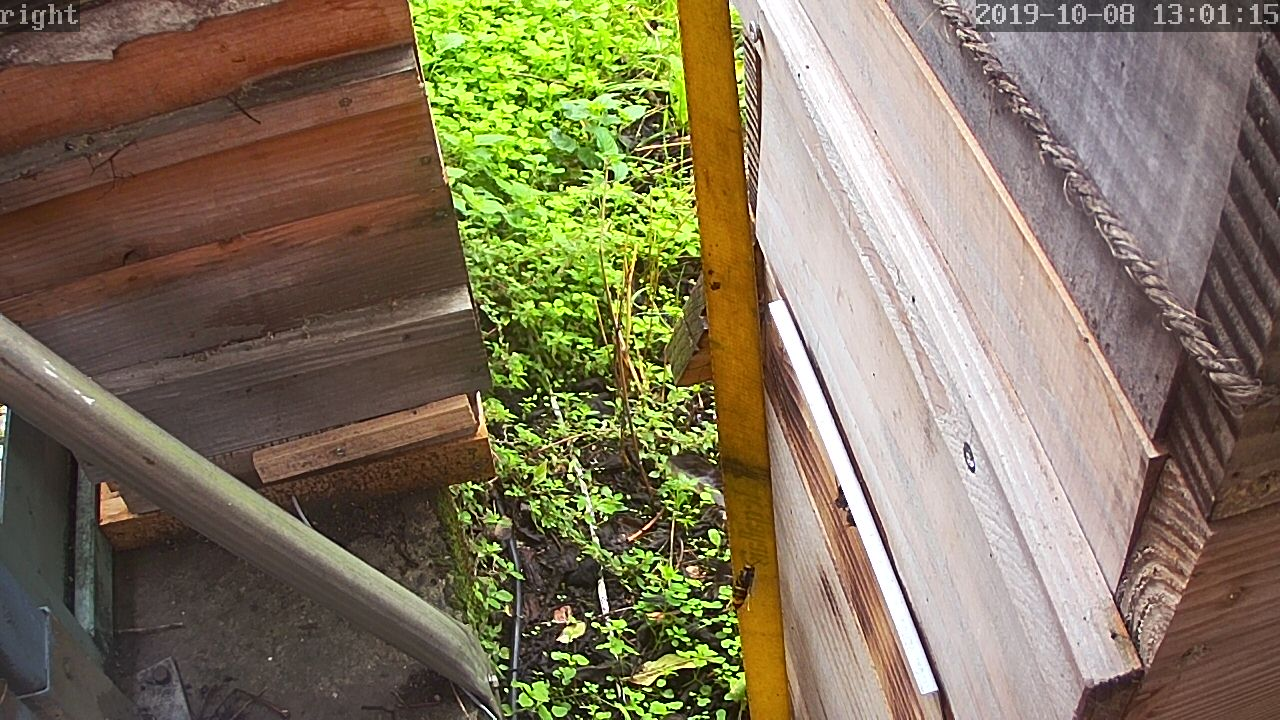bee: (829, 484, 861, 526)
hornet: (726, 556, 766, 614)
